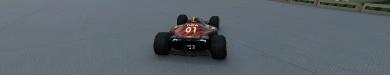Car: (152, 13, 227, 59)
obstacles-Borders: (267, 0, 389, 15)
